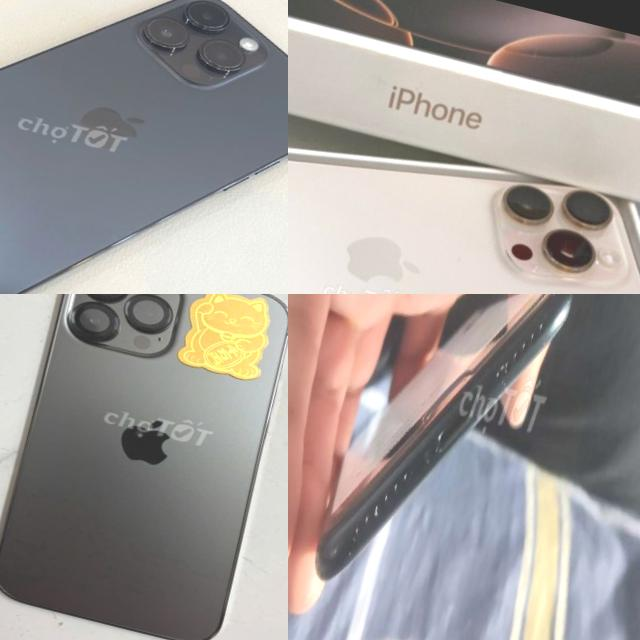gen_12_13: (0, 294, 288, 640)
gen_14: (0, 0, 288, 294)
gen_16: (288, 70, 640, 294)
gen_7_8: (315, 294, 570, 578)
